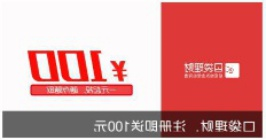ImgView: (1, 1, 265, 139)
